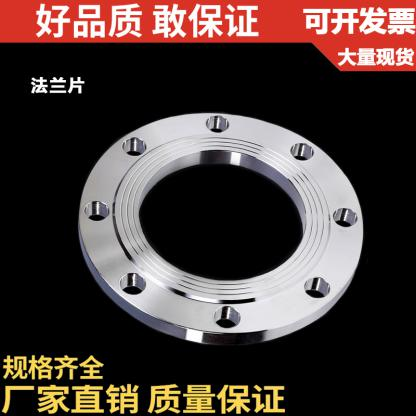FOD: (71, 108, 367, 350)
